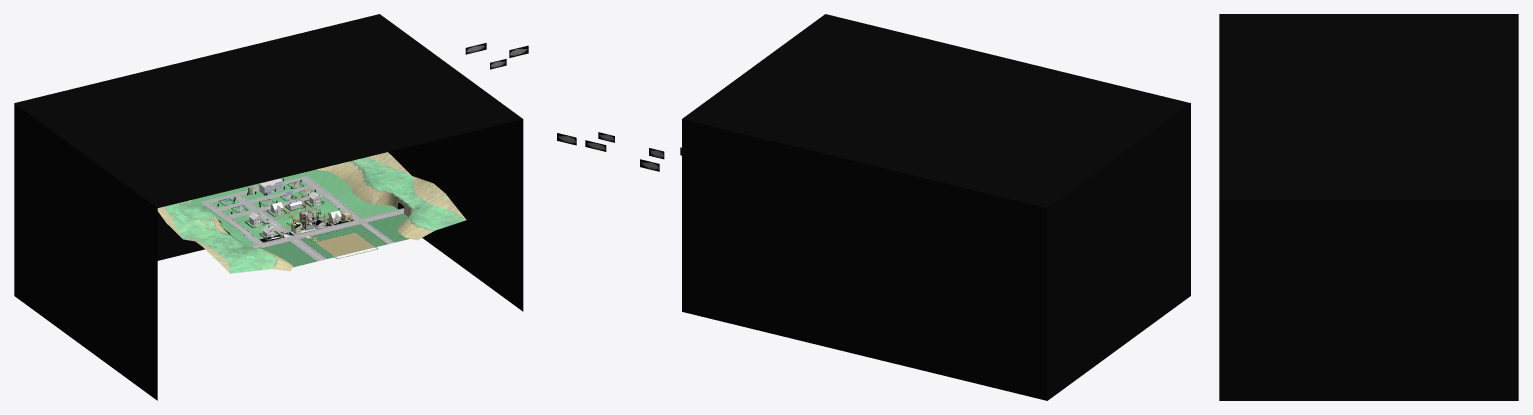
The model's file is onett.fbx.
3 views of the same model, side by side, from view 1: azimuth 30°, elevation 25°; view 2: azimuth 150°, elevation 25°; view 3: azimuth 270°, elevation 25° (orthographic). The views are drawn at different scales.
Visible parts, largest first — view 1: polygon198, polygon196, polygon163, polygon195, polygon18, polygon20, polygon19, polygon179, polygon22, polygon0; view 2: polygon198, polygon0; view 3: polygon198.
Boxes of the visible parts, <box> form: polygon198: <box>14,14,523,400</box>; polygon196: <box>163,157,466,273</box>; polygon163: <box>190,169,397,246</box>; polygon195: <box>157,152,466,273</box>; polygon18: <box>263,214,409,267</box>; polygon20: <box>226,194,404,261</box>; polygon19: <box>200,176,404,261</box>; polygon179: <box>202,176,330,219</box>; polygon22: <box>315,232,374,256</box>; polygon0: <box>465,43,528,69</box>; polygon198: <box>682,14,1190,400</box>; polygon0: <box>557,132,664,159</box>; polygon198: <box>1219,14,1518,400</box>.
Size of the model in its own units: 30.93 by 11.34 by 15.3.
Materials: 134 (129 with a texture image).
